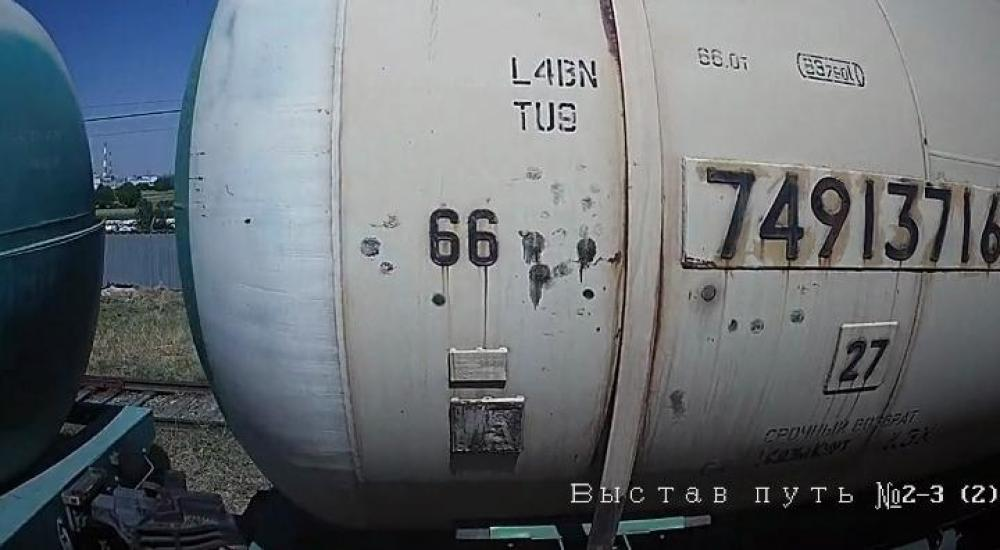Wagon-number: (697, 163, 1000, 272)
